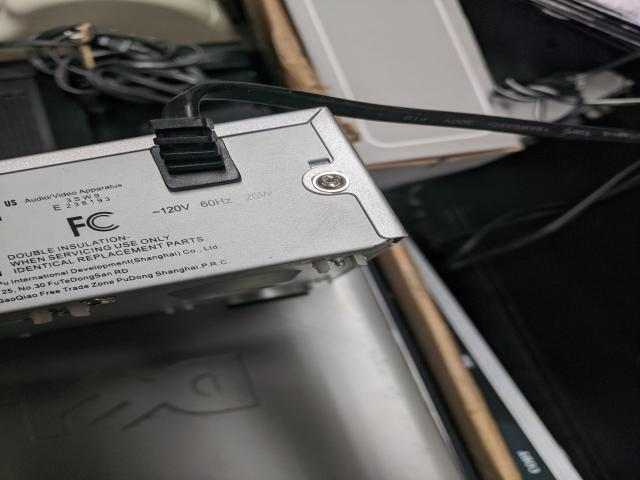CRS: (315, 172, 351, 191)
